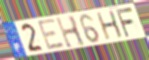2: (21, 22, 46, 54)
6: (79, 13, 102, 45)
E: (36, 17, 66, 52)
F: (114, 6, 135, 39)
H: (54, 14, 88, 50), (95, 9, 125, 41)
